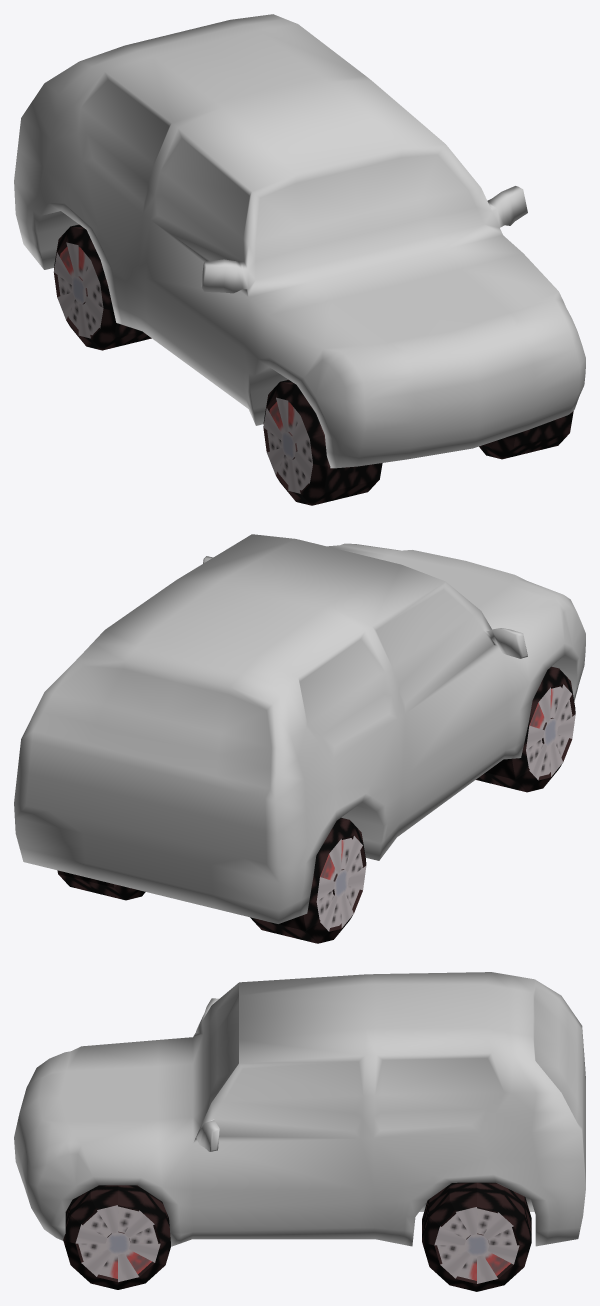
The model's file is SUV.fbx.
3 views of the same model, one above another, from view 1: azimuth 30°, elevation 25°; view 2: azimuth 150°, elevation 25°; view 3: azimuth 270°, elevation 25° (orthographic). The views are drawn at different scales.
Parts seen in each view (by area): view 1: Car, Front Left Wheel, Back Right Wheel, Front Left Wheel.001; view 2: Car, Back Right Wheel, Front Left Wheel, Back Left Wheel; view 3: Car, Back Left Wheel, Front Left Wheel.001.
Part boxes in pixels (x1,y1,x2,y2): Car: (14, 14, 585, 468); Front Left Wheel: (263, 379, 382, 505); Back Right Wheel: (53, 224, 151, 350); Front Left Wheel.001: (479, 411, 573, 459); Car: (14, 534, 585, 923); Back Right Wheel: (250, 817, 366, 943); Front Left Wheel: (476, 666, 575, 792); Back Left Wheel: (57, 870, 145, 900); Car: (14, 972, 585, 1246); Back Left Wheel: (422, 1182, 531, 1291); Front Left Wheel.001: (63, 1185, 170, 1289).
Bounding box in the file's own units: 4.05 × 3.25 × 7.21.
